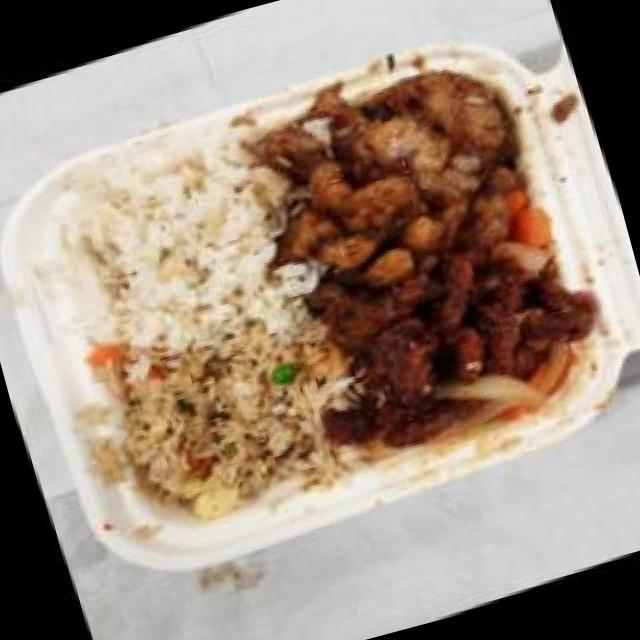Beijing Beef: (289, 206, 622, 479)
Fried Rice: (67, 304, 362, 554)
The Original Orange Chicken: (238, 28, 560, 310)
White Steamed Rice: (21, 116, 315, 377)
